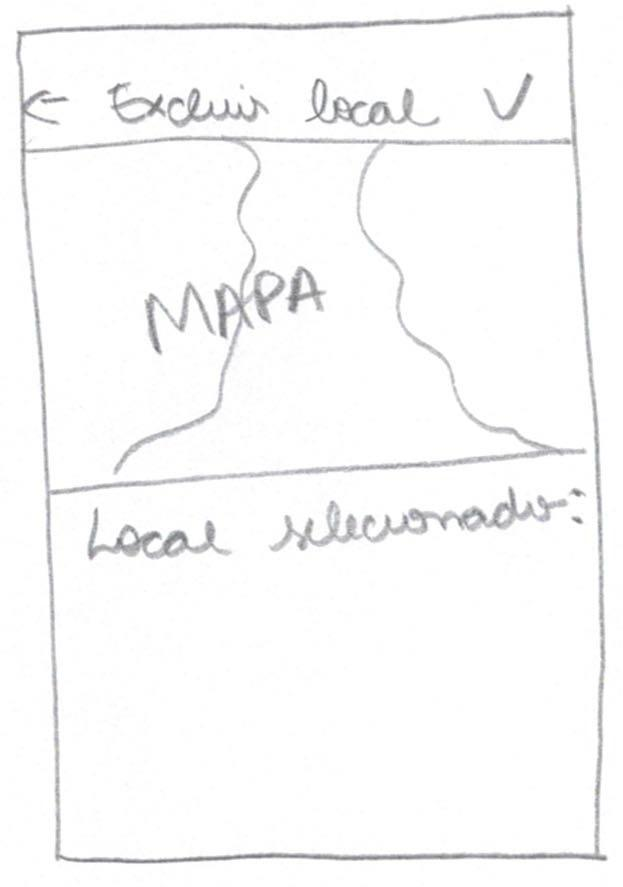Button: (480, 71, 534, 124), (19, 88, 70, 127)
Label: (84, 483, 589, 561), (102, 77, 444, 131)
Map: (26, 139, 597, 492)
Screen: (12, 12, 608, 865)
